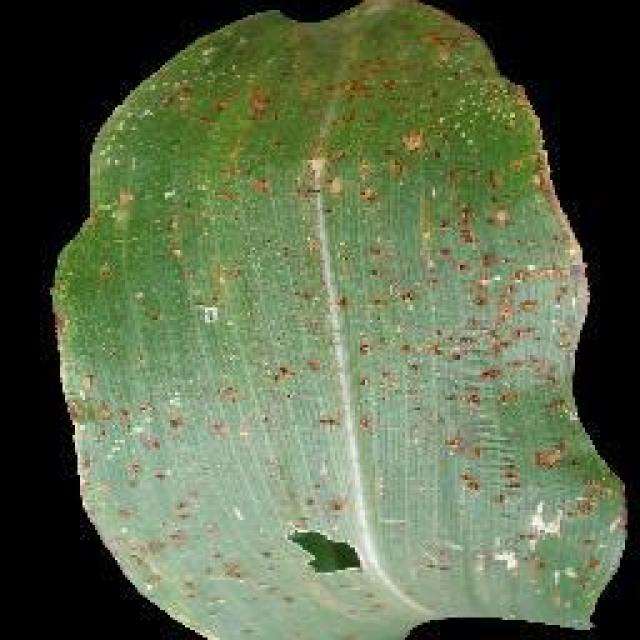Corn Common Rust: (125, 137, 498, 568)
